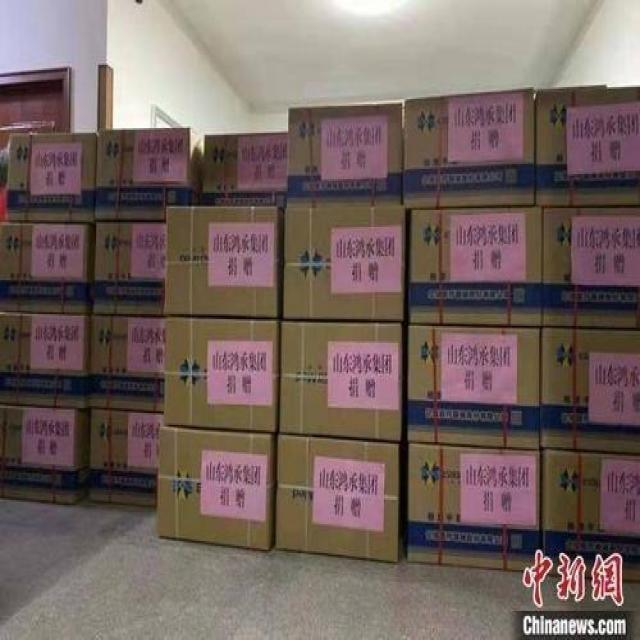box: (399, 419, 542, 580), (266, 414, 406, 566), (401, 312, 541, 460), (404, 197, 548, 331), (393, 84, 538, 216), (277, 185, 408, 329), (158, 187, 291, 326), (279, 304, 404, 444), (156, 412, 272, 553), (161, 300, 281, 436), (536, 308, 640, 462), (534, 192, 640, 340), (539, 438, 640, 590), (530, 74, 640, 212), (284, 96, 406, 208), (85, 109, 197, 226), (0, 213, 95, 326), (0, 401, 94, 515), (0, 302, 97, 412), (89, 203, 178, 320), (78, 394, 170, 507), (0, 114, 96, 222), (88, 296, 170, 416), (195, 125, 296, 218)
